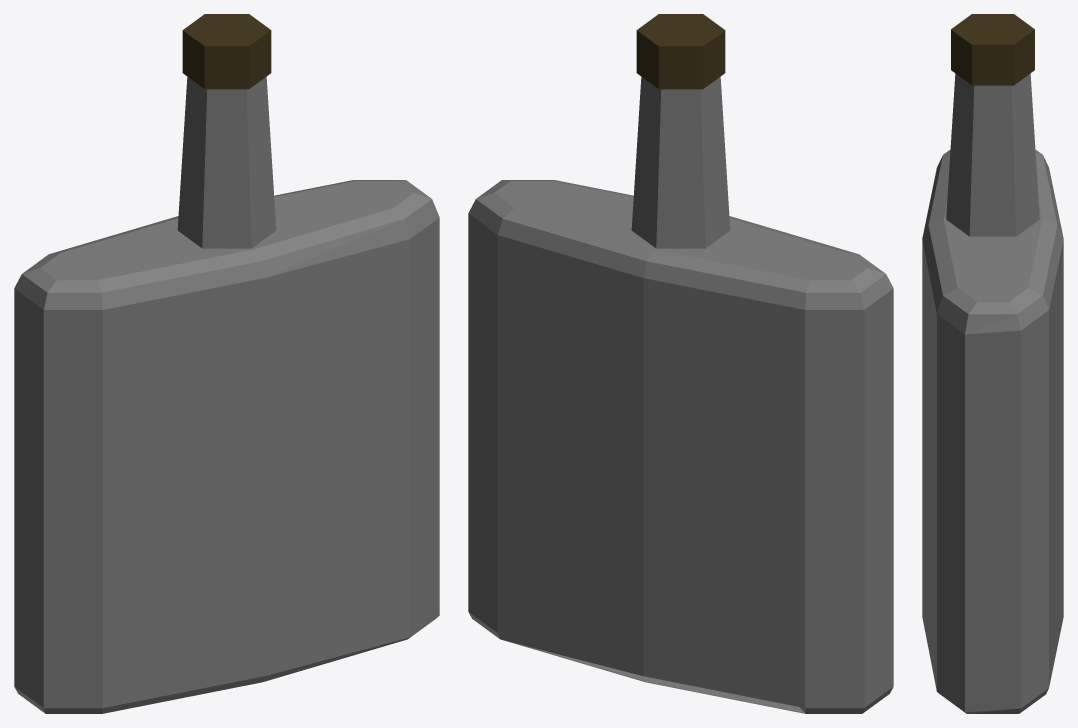
The model's file is botella.fbx.
The picture shows the model from 3 angles, left to right: view 1: azimuth 30°, elevation 25°; view 2: azimuth 150°, elevation 25°; view 3: azimuth 270°, elevation 25°; orthographic projection. The views are drawn at different scales.
Parts seen in each view (by area): view 1: Circle.001, Circle.002; view 2: Circle.001, Circle.002; view 3: Circle.001, Circle.002.
Part boxes in pixels (bbox=[...]): Circle.001: bbox=[14, 77, 439, 713]; Circle.002: bbox=[182, 14, 271, 89]; Circle.001: bbox=[468, 77, 893, 713]; Circle.002: bbox=[636, 14, 725, 89]; Circle.001: bbox=[922, 73, 1063, 713]; Circle.002: bbox=[951, 14, 1034, 85].
Bounding box in the file's own units: 304 × 462 × 99.21.
